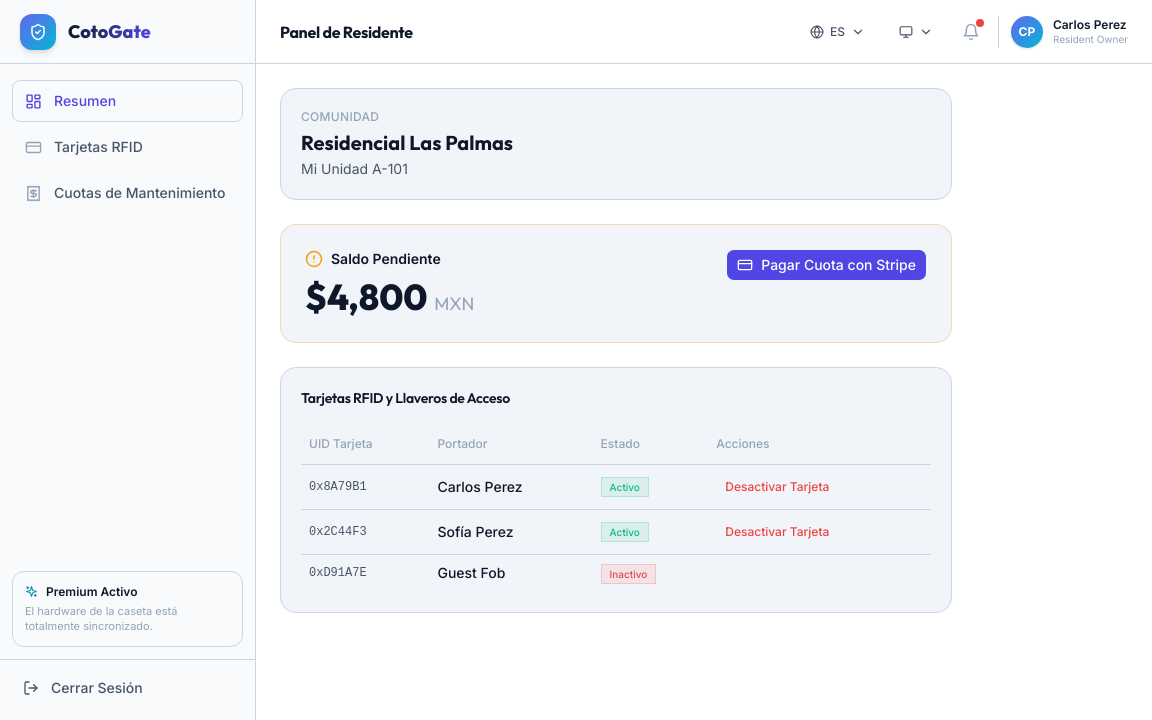
Test: ResidentPortal › opens RFID deactivation confirm dialog and confirms deactivation
expect the heading "Panel de Residente" is shown: met, box x1=280 y1=20 x2=413 y2=44
Click the button with id "nav-rfids": (128, 147) x1=12 y1=126 x2=243 y2=168
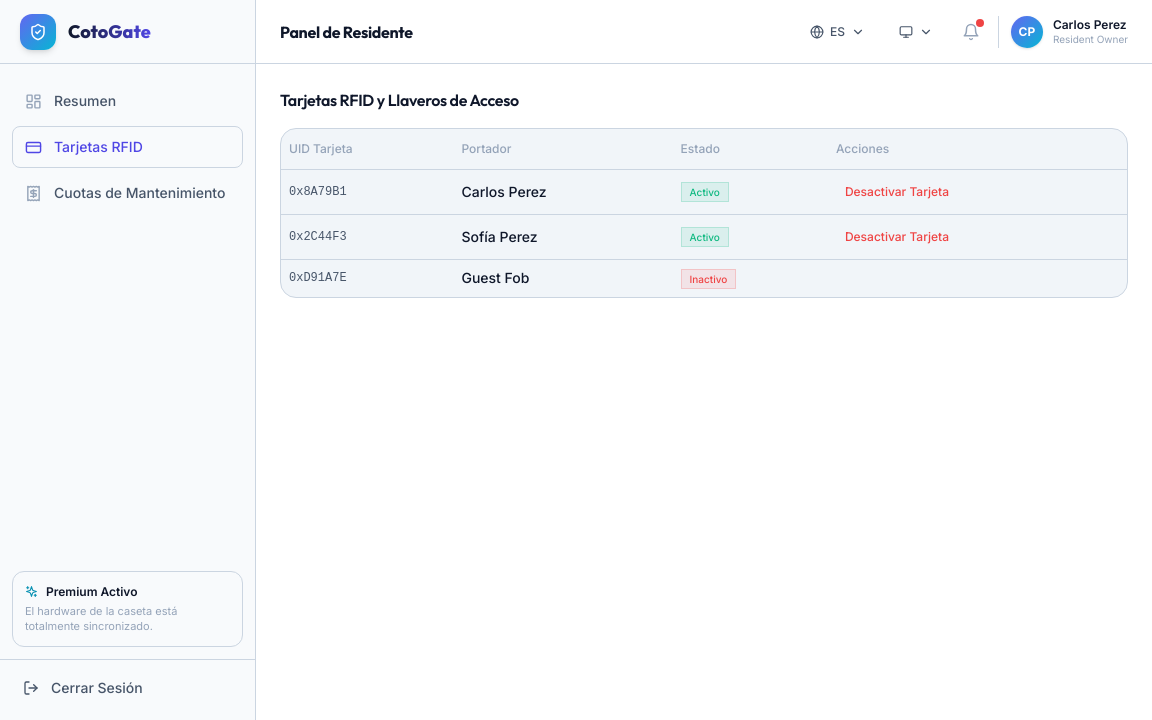
expect the heading "Tarjetas RFID y Llaveros de Acceso" is shown: met, box x1=280 y1=90 x2=519 y2=110
Note: Click deactivate on the first active card
Click the button with id "btn-deactivate-rfid-1": (897, 192) x1=836 y1=178 x2=958 y2=206
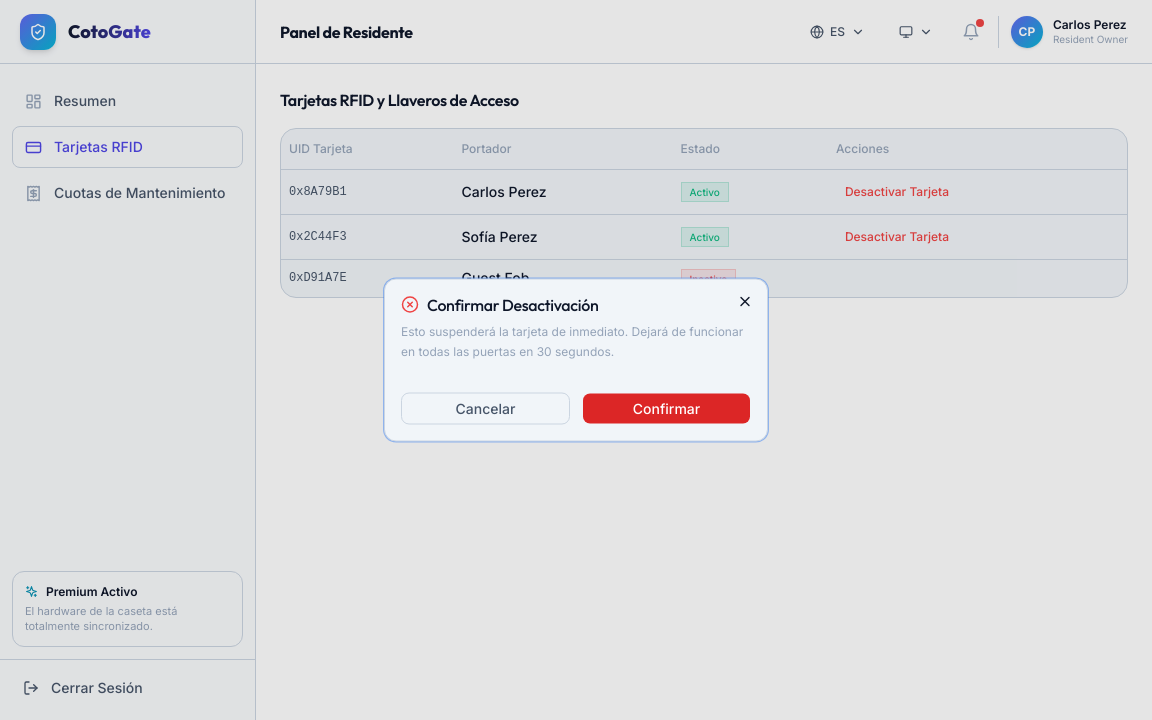
expect the heading "Confirmar Desactivación" is shown: met, box x1=401 y1=294 x2=598 y2=314
Click the button "Confirmar": (666, 408) x1=582 y1=392 x2=751 y2=424
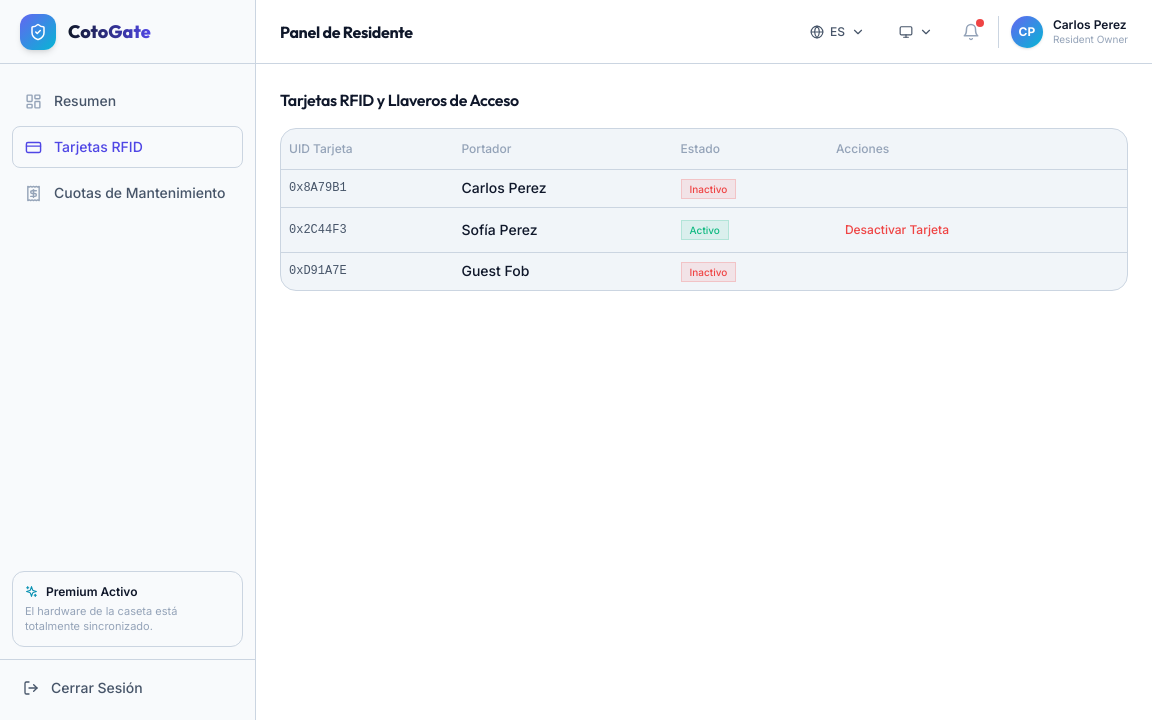
expect the icon "Inactivo" in the row of "0x8A79B1" is shown: met, box x1=690 y1=182 x2=727 y2=194
